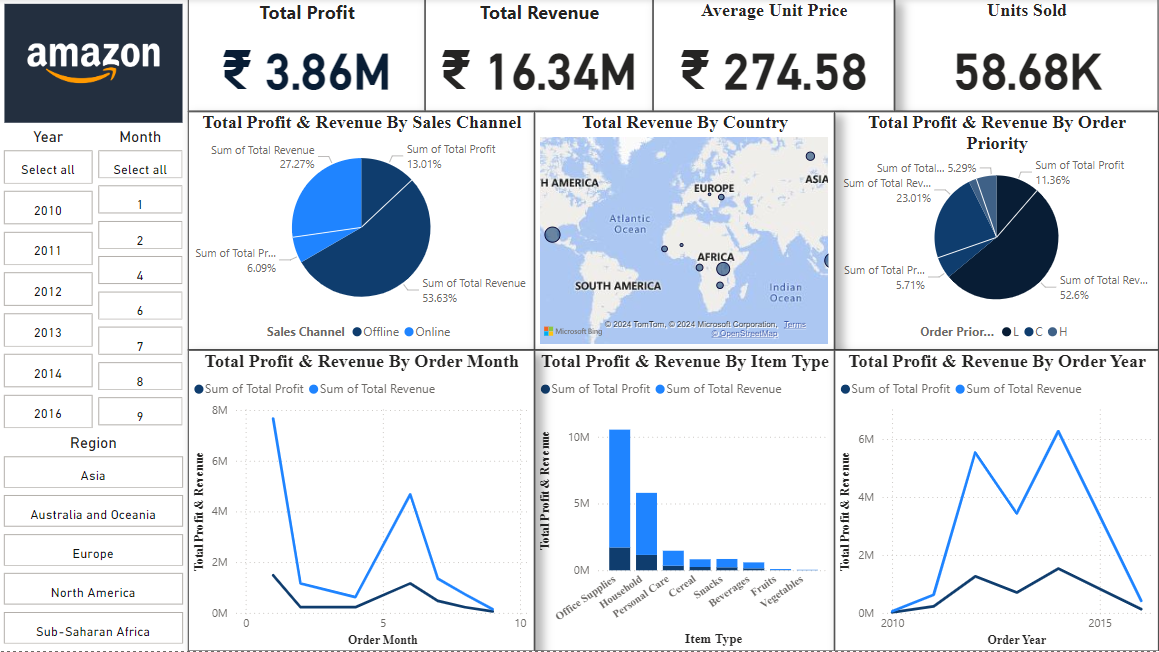

What the dashboard file says about the page in this screenshot:
{"tool":"powerbi","page":{"name":"Page 2","canvas":[1280,720],"ordinal":1},"visuals":[{"type":"image","box":[0,0,208.3,141.7],"z":0},{"type":"advancedSlicerVisual","title":"Year","fields":{"Values":["Amazon Sales data.Order Year"]},"box":[0,141.7,108.3,338.3],"z":1000},{"type":"advancedSlicerVisual","title":"Month","fields":{"Values":["Amazon Sales data.Order Month"]},"box":[105,141.7,103.3,338.3],"z":2000},{"type":"advancedSlicerVisual","fields":{"Values":["Amazon Sales data.Region"]},"box":[0,480,208.3,240],"z":3000},{"type":"card","title":"Total Profit","fields":{"Values":["Sum(Amazon Sales data.Total Profit)"]},"box":[208.7,0,261.7,124.2],"z":4000},{"type":"card","title":"Total Revenue","fields":{"Values":["Sum(Amazon Sales data.Total Revenue)"]},"box":[470.4,0,251.8,124.2],"z":5000},{"type":"card","title":"Units Sold","fields":{"Values":["Sum(Amazon Sales data.Units Sold)"]},"box":[988.9,0,291.5,124.2],"z":6000},{"type":"card","title":"Average Unit Price","fields":{"Values":["Avg(Amazon Sales data.Unit Price)"]},"box":[722.2,0,266.7,124.2],"z":7000},{"type":"pieChart","title":"Total Profit & Revenue By Order Priority","fields":{"Category":["Amazon Sales data.Order Priority"],"Y":["Sum(Amazon Sales data.Total Profit)","Sum(Amazon Sales data.Total Revenue)"]},"box":[922.7,124.2,357.8,263.4],"z":8000},{"type":"pieChart","title":"Total Profit & Revenue By Sales Channel","fields":{"Category":["Amazon Sales data.Sales Channel"],"Y":["Sum(Amazon Sales data.Total Profit)","Sum(Amazon Sales data.Total Revenue)"]},"box":[208.7,124.2,382.6,263.4],"z":9000},{"type":"map","title":"Total Revenue By Country","fields":{"Category":["Amazon Sales data.Country"],"Size":["Sum(Amazon Sales data.Total Revenue)"]},"box":[591.4,124.2,331.3,263.4],"z":10000},{"type":"columnChart","title":"Total Profit & Revenue By Item Type","fields":{"Category":["Amazon Sales data.Item Type"],"Y":["Sum(Amazon Sales data.Total Profit)","Sum(Amazon Sales data.Total Revenue)"]},"box":[591.4,387.6,331.3,333],"z":11000},{"type":"lineChart","title":"Total Profit & Revenue By Order Month","fields":{"Category":["Amazon Sales data.Order Month"],"Y":["Sum(Amazon Sales data.Total Profit)","Sum(Amazon Sales data.Total Revenue)"]},"box":[208.7,387.6,382.6,333],"z":12000},{"type":"lineChart","title":"Total Profit & Revenue By Order Year","fields":{"Category":["Amazon Sales data.Order Year"],"Y":["Sum(Amazon Sales data.Total Profit)","Sum(Amazon Sales data.Total Revenue)"]},"box":[922.7,387.6,357.8,333],"z":13000}]}

Visuals, with their boxes in screenshot pixels (x1, y1, x2, y2), scaled from the page's 1280x720 canvas onto the 1159x652 screenshot:
image: <bbox>0, 0, 189, 128</bbox>
"Year" advancedSlicerVisual: <bbox>0, 128, 98, 435</bbox>
"Month" advancedSlicerVisual: <bbox>95, 128, 189, 435</bbox>
advancedSlicerVisual - Amazon Sales data.Region: <bbox>0, 435, 189, 651</bbox>
"Total Profit" card: <bbox>189, 0, 426, 112</bbox>
"Total Revenue" card: <bbox>426, 0, 654, 112</bbox>
"Units Sold" card: <bbox>895, 0, 1158, 112</bbox>
"Average Unit Price" card: <bbox>654, 0, 895, 112</bbox>
"Total Profit & Revenue By Order Priority" pieChart: <bbox>835, 112, 1158, 351</bbox>
"Total Profit & Revenue By Sales Channel" pieChart: <bbox>189, 112, 535, 351</bbox>
"Total Revenue By Country" map: <bbox>535, 112, 835, 351</bbox>
"Total Profit & Revenue By Item Type" columnChart: <bbox>535, 351, 835, 651</bbox>
"Total Profit & Revenue By Order Month" lineChart: <bbox>189, 351, 535, 651</bbox>
"Total Profit & Revenue By Order Year" lineChart: <bbox>835, 351, 1158, 651</bbox>
